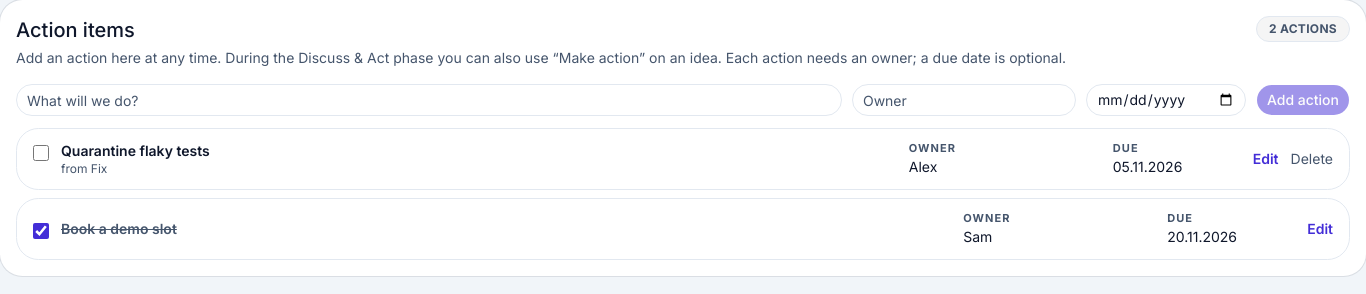
Scenario: ActionItems › edits an action inline
Click the button "Edit" in the row of "Book a demo slot" at coordinates (1320, 229), box x1=1307 y1=219 x2=1333 y2=239
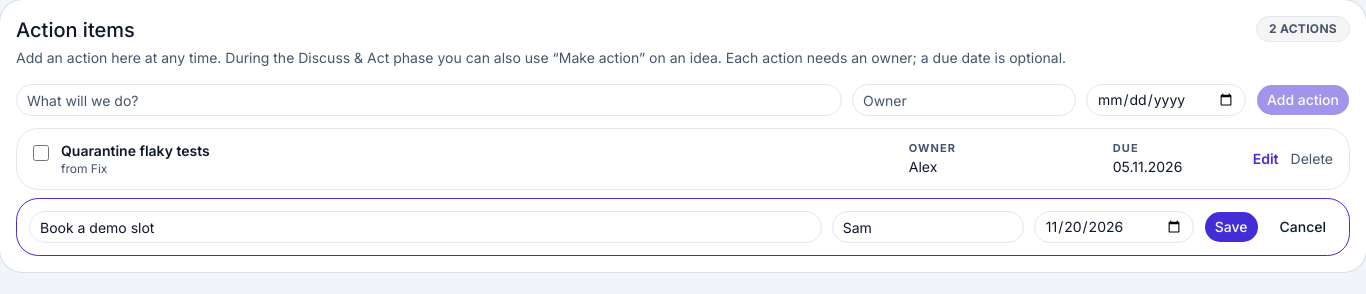
Replace the text in the field named "Owner" with "Kim" at coordinates (928, 227), box x1=832 y1=211 x2=1024 y2=243
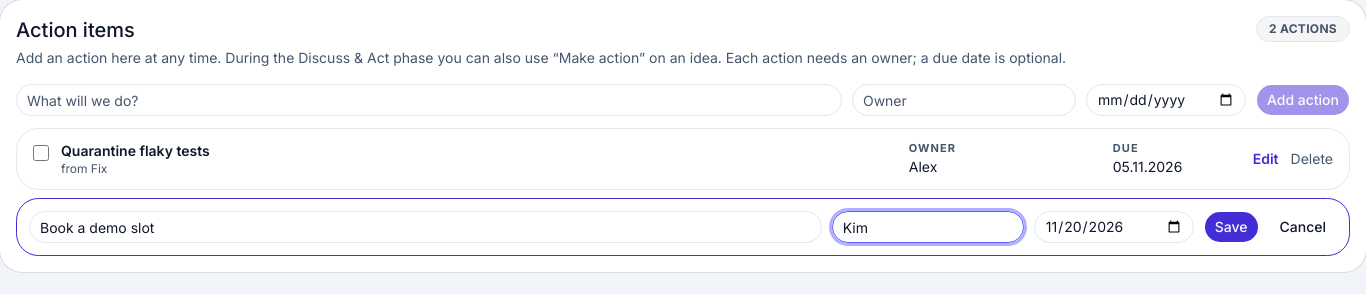
Click the button "Save" at coordinates (1231, 227), box x1=1204 y1=211 x2=1258 y2=243
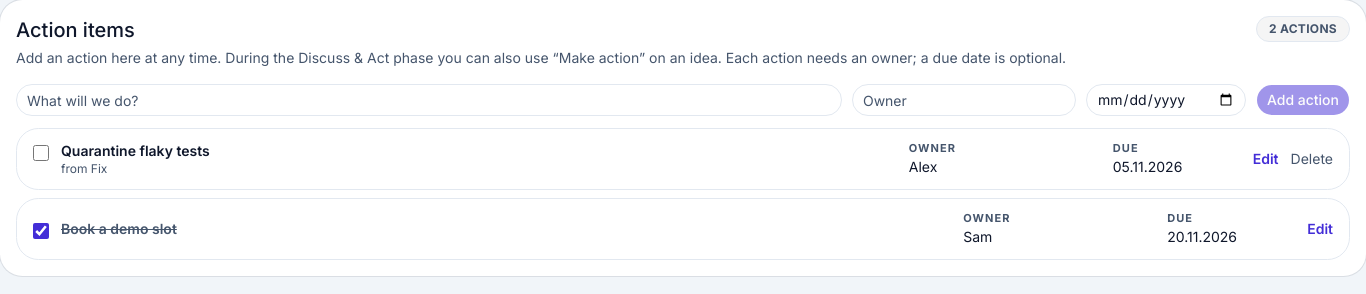
Result: the form "Save Cancel" is gone
